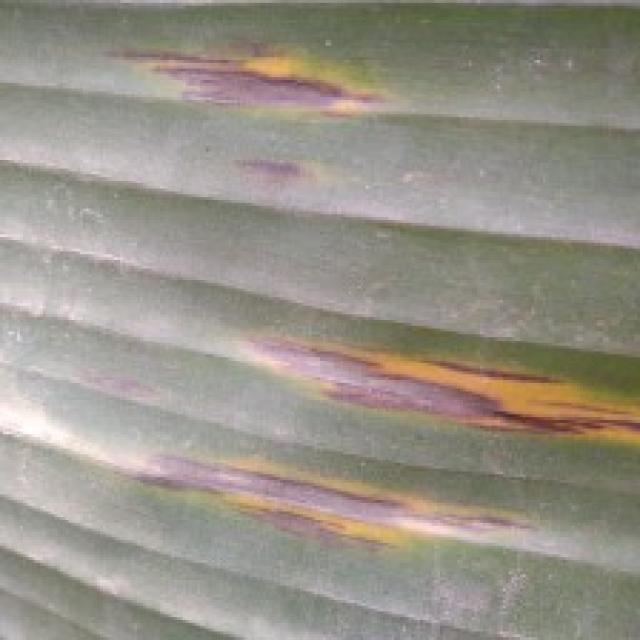Early_leaf_spot: (200, 290, 640, 459), (110, 432, 544, 565), (106, 22, 396, 125), (218, 126, 351, 192)
